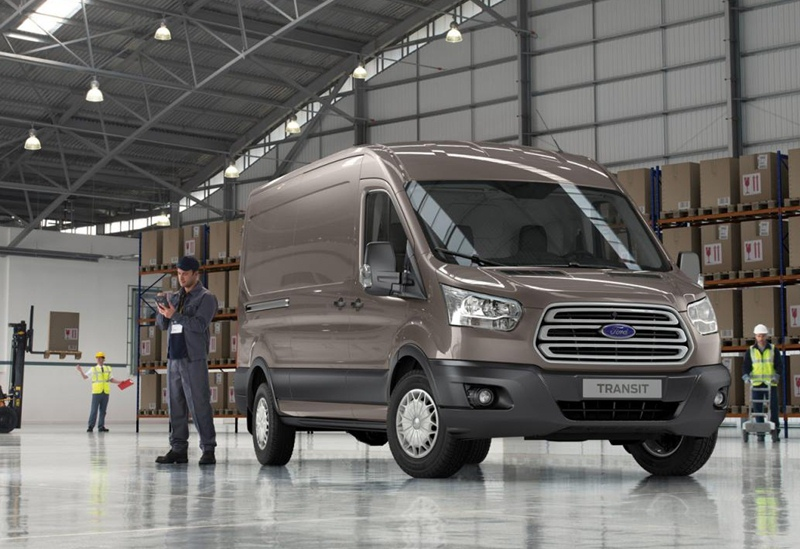van: (232, 139, 733, 478)
